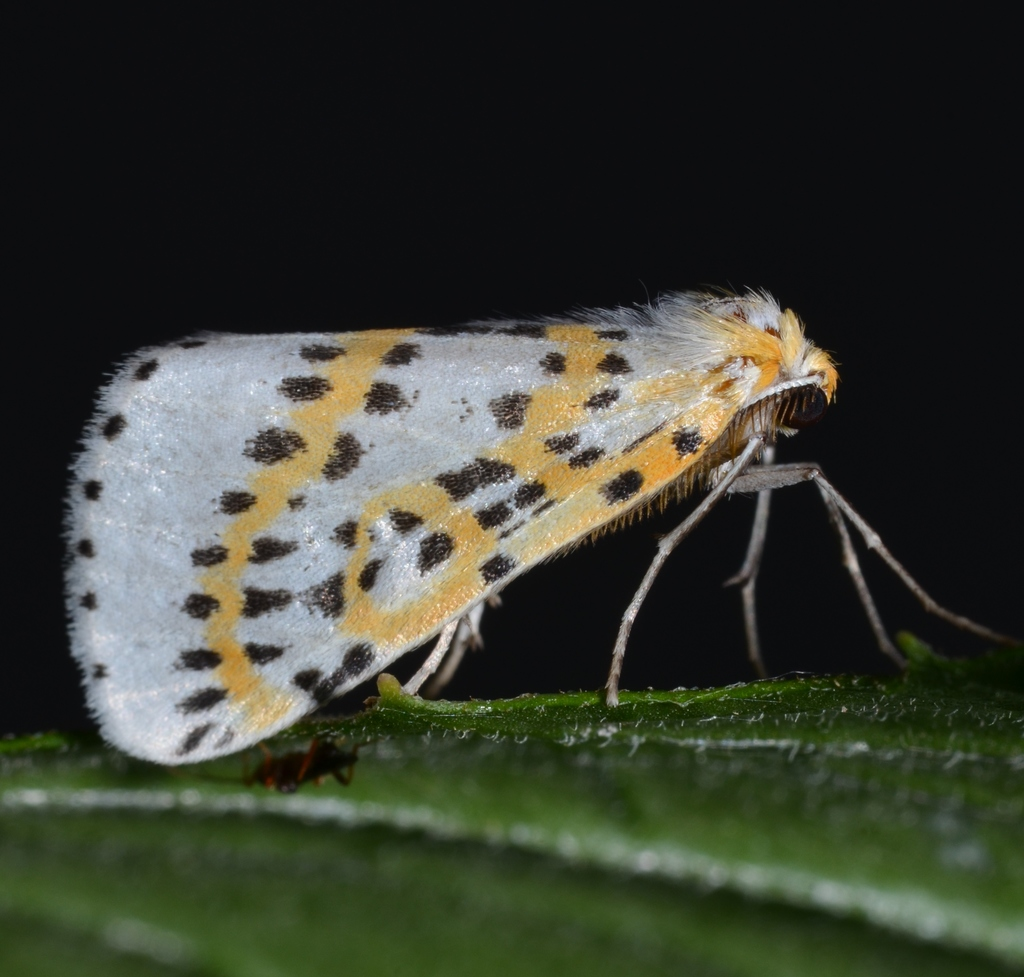Butterfly: (54, 278, 888, 788)
